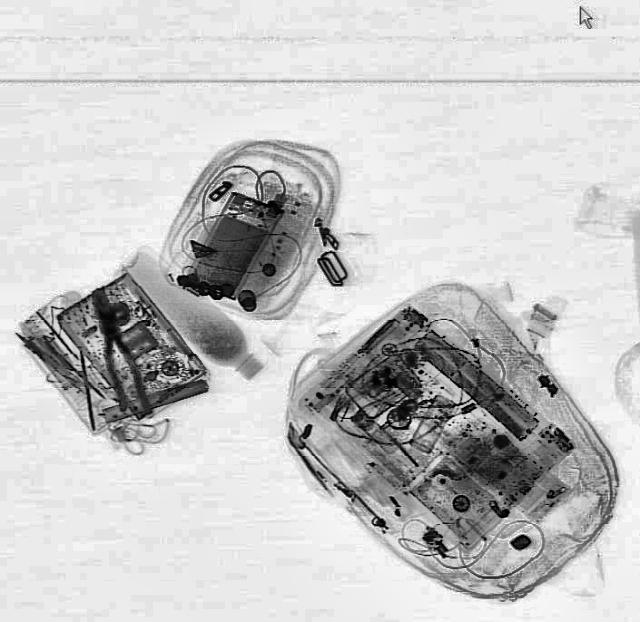Pliers: (84, 284, 152, 420)
